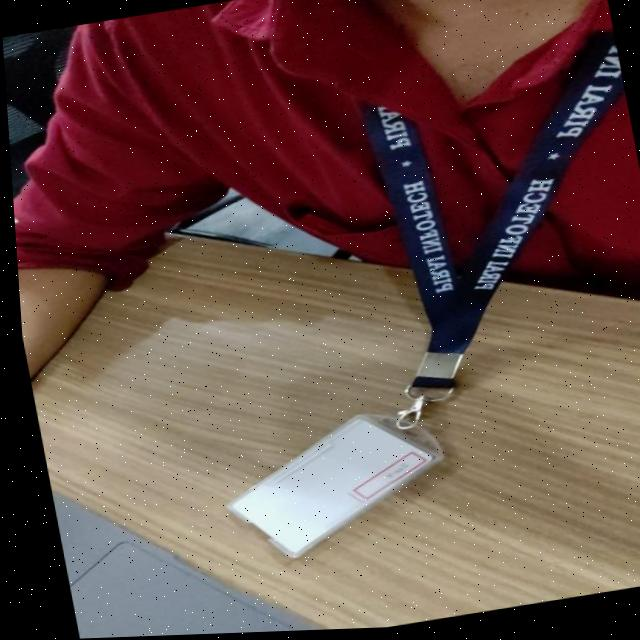id_card: (142, 8, 640, 579)
